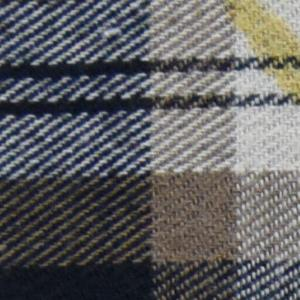Stain: (219, 1, 300, 109)
